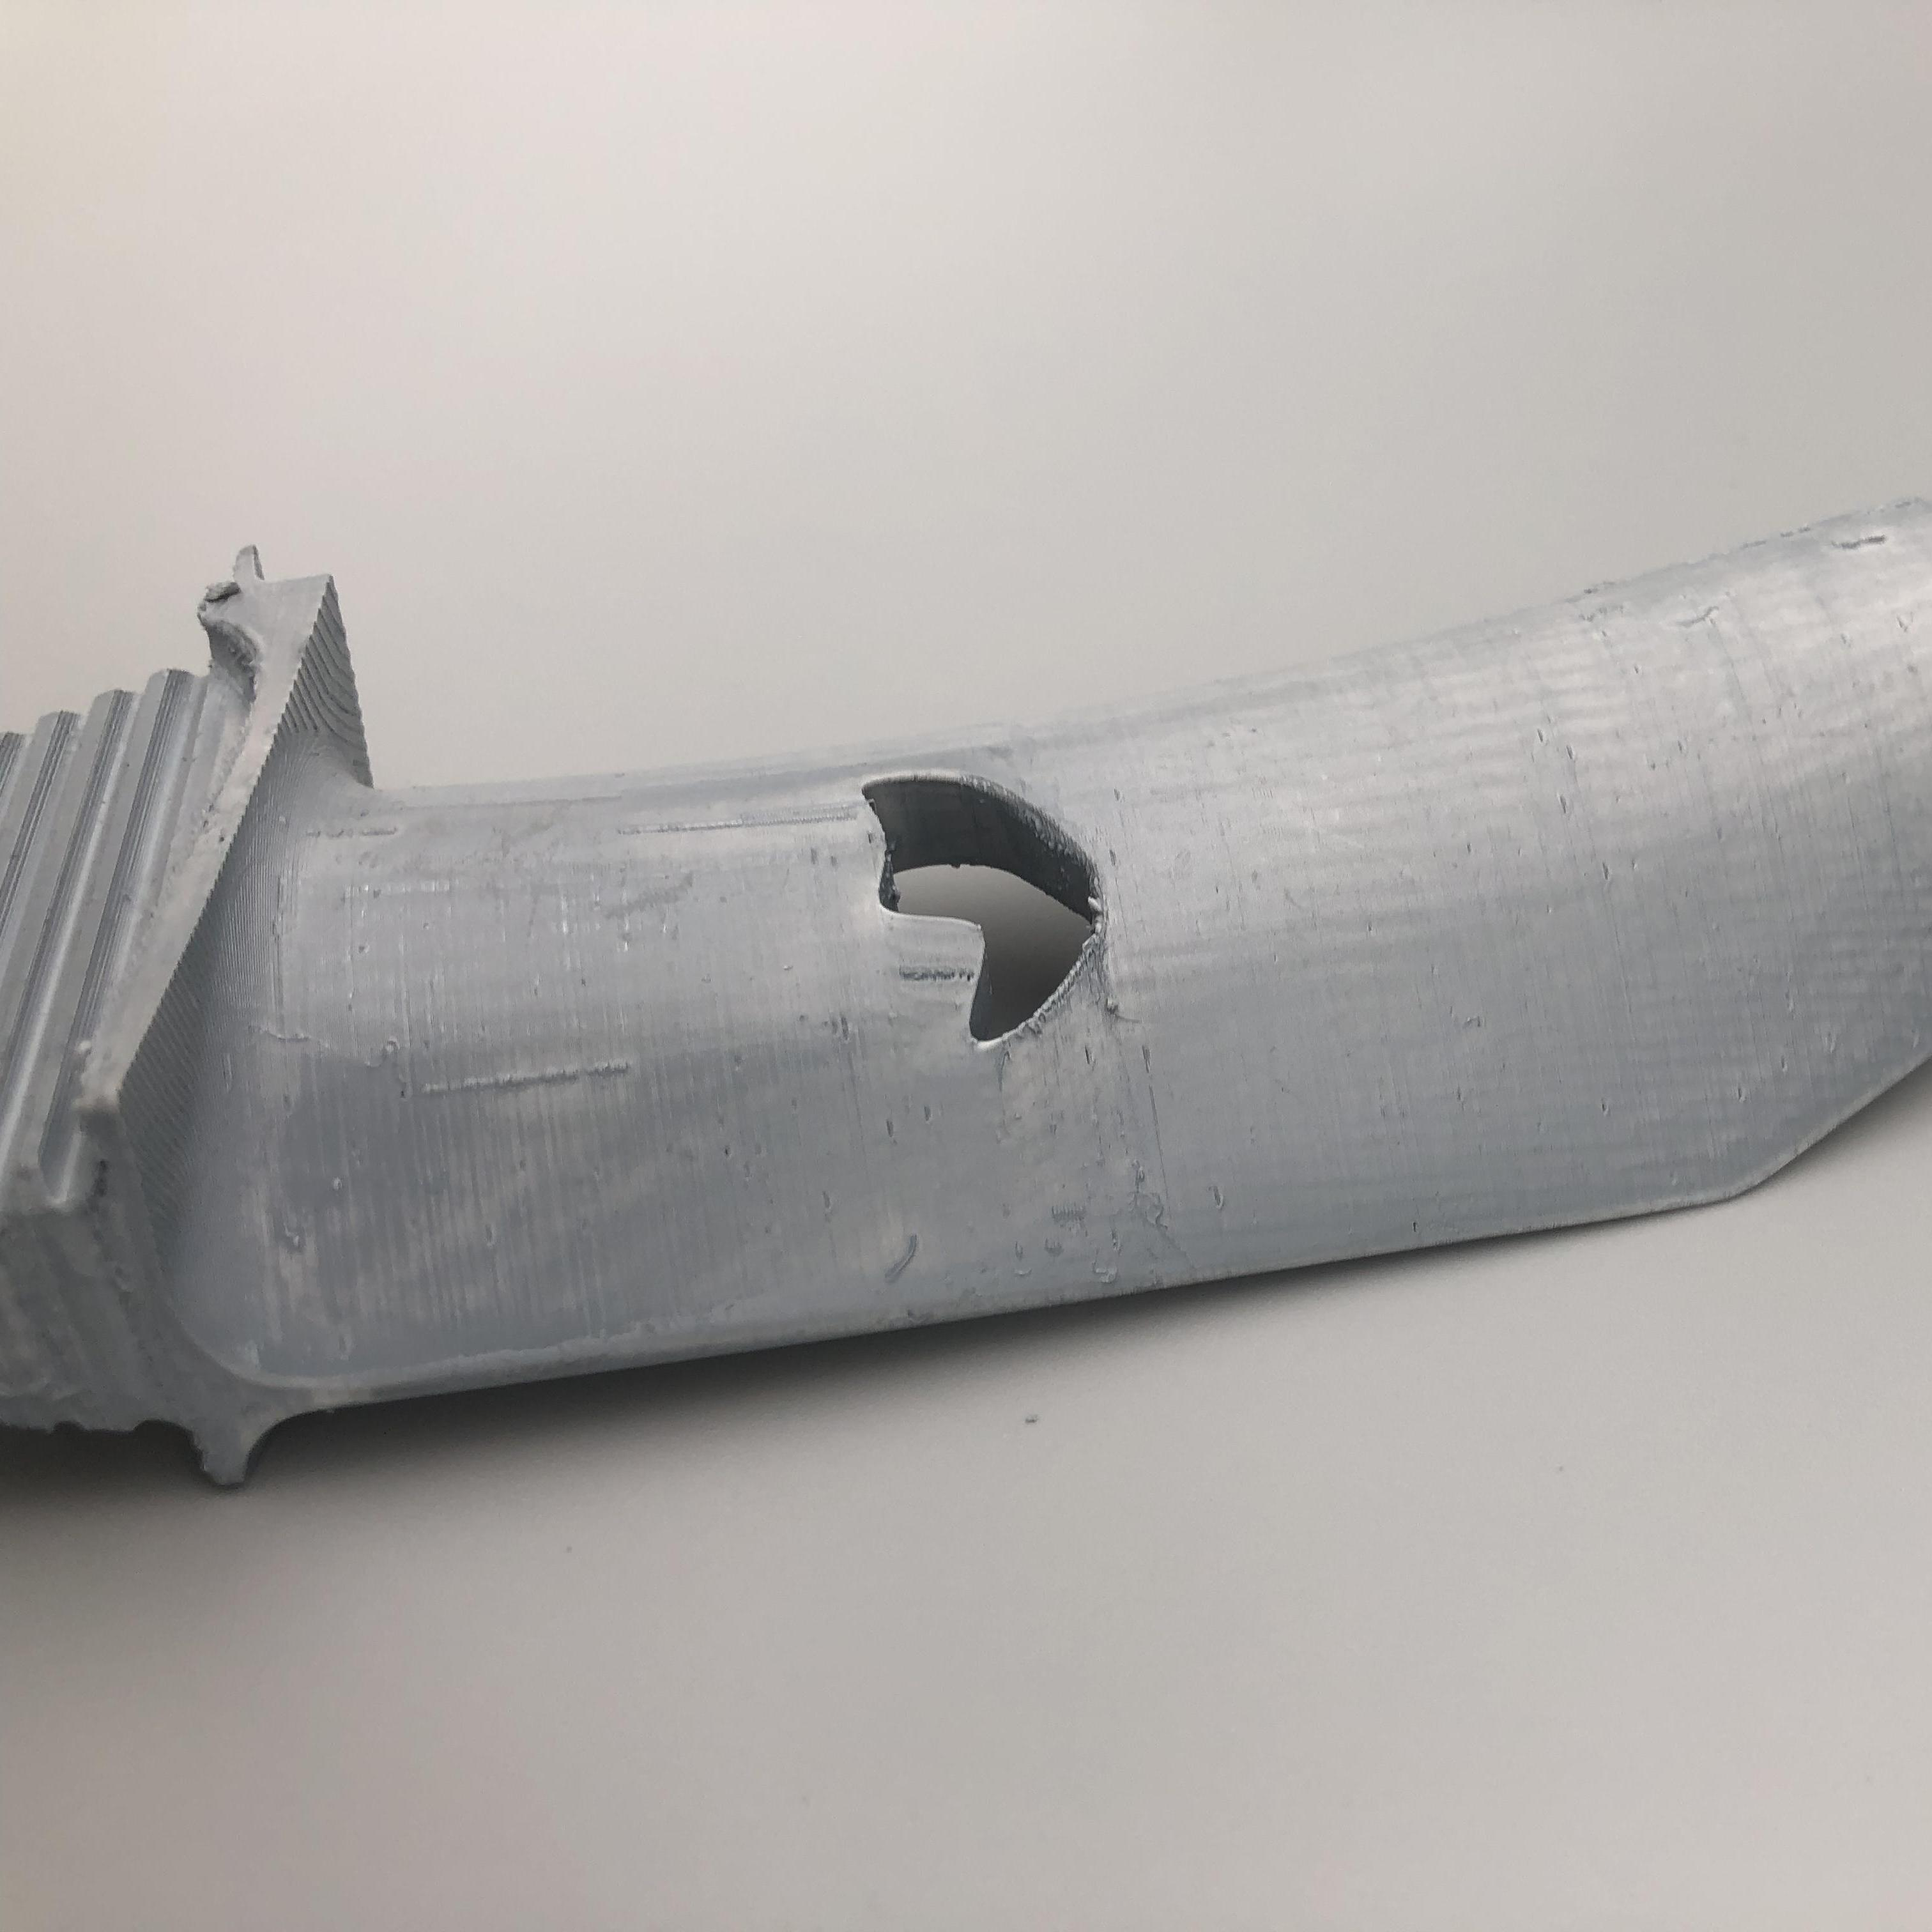breakdown: (842, 766, 1109, 1056)
